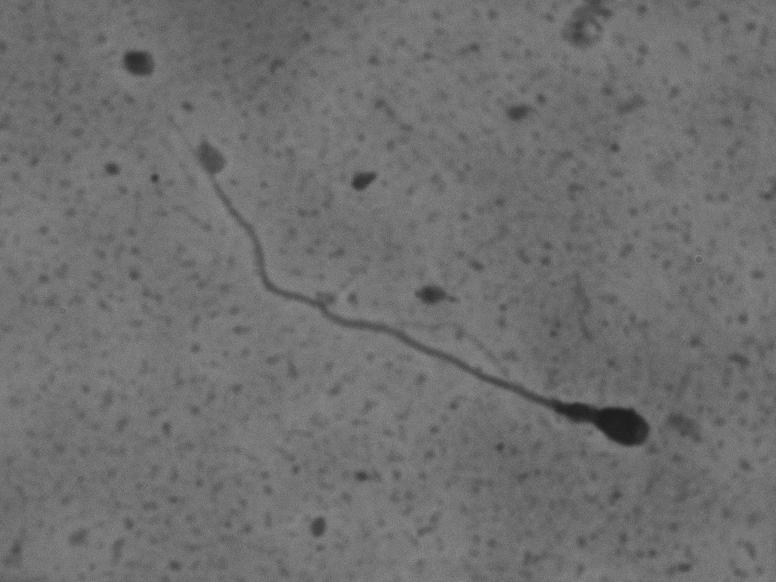Abnormal: (167, 134, 681, 480)
